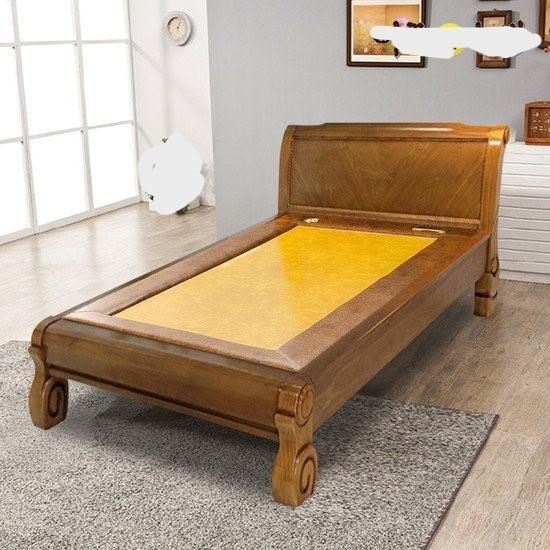Bed-Mattress: (31, 111, 524, 490)
